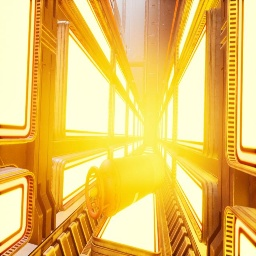NitrogenTank ,: (85, 153, 165, 220)
